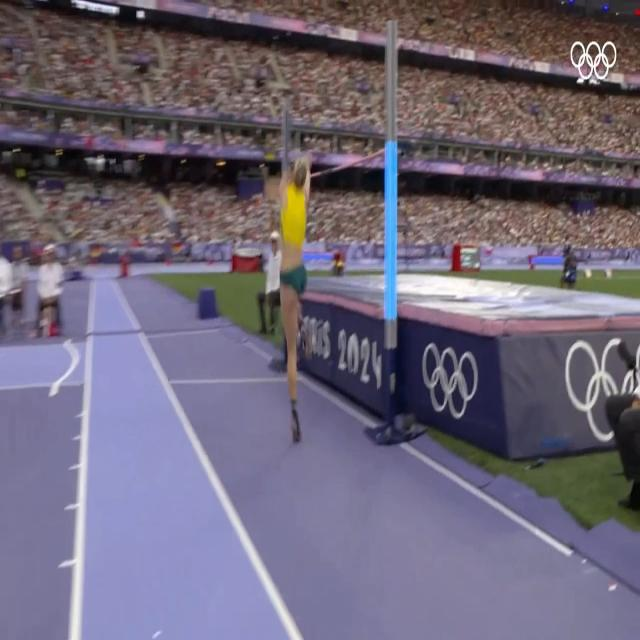jump: (279, 155, 310, 439)
